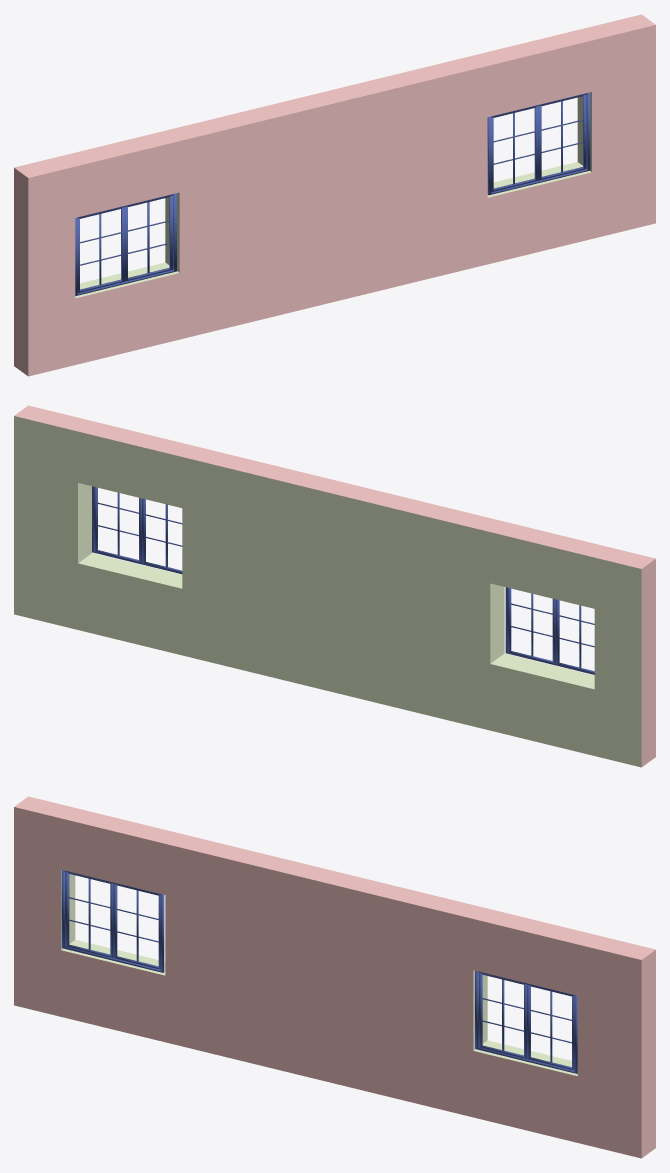
File: Pared1Arriba.obj
The picture shows the model from 3 angles, top to bottom: view 1: azimuth 30°, elevation 25°; view 2: azimuth 150°, elevation 25°; view 3: azimuth 330°, elevation 25°; orthographic projection.
Visible parts, largest first — view 1: refri_edit25:Box007 pasted__pasted__group62 pasted__group71 grou; view 2: refri_edit25:Box007 pasted__pasted__group62 pasted__group71 grou; view 3: refri_edit25:Box007 pasted__pasted__group62 pasted__group71 grou.
Part boxes in pixels (x1,y1,x2,y2): refri_edit25:Box007 pasted__pasted__group62 pasted__group71 grou: [14, 14, 655, 376]; refri_edit25:Box007 pasted__pasted__group62 pasted__group71 grou: [14, 405, 655, 767]; refri_edit25:Box007 pasted__pasted__group62 pasted__group71 grou: [14, 796, 655, 1158].
Size of the model in its own units: 22.34 by 6.75 by 0.8837.
Materials: 6 (6 with a texture image).
